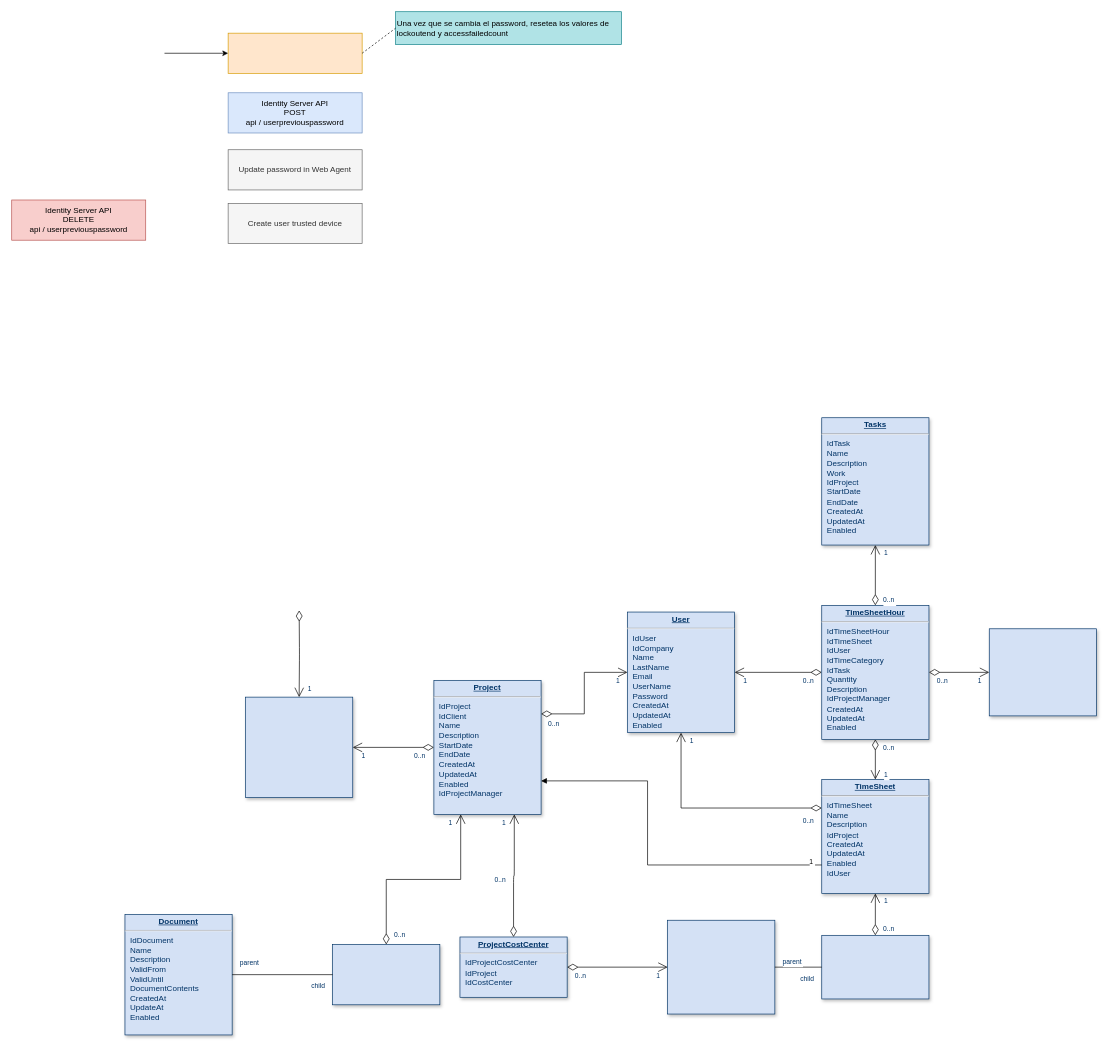
Some shapes in this 1112 by 1052 pixel diagram are drawn without their labels. The shapes that lost their labels are listed below. From the top down, each one's centre as x and y in pixels, then its label:
At (x=294, y=52): "Identity Server API PATCH api / user / { id } / password".
At (x=1043, y=673): "TimeCategory IdTimeCategory Name Description CreatedAt UpdatedAt Enabled".
At (x=299, y=748): "Client IdClient IdCompany Name Description CreatedAt UpdatedAt Enabled".
At (x=386, y=975): "ProjectDocument IdProjectDocument IdProject IdDocument".
At (x=721, y=968): "CostCenter IdCostCenter Name Description CreatedAt UpdatedAt Enabled".
At (x=875, y=968): "TimeSheetCostCenter IdTimeSheetCostCenter IdTimeSheet IdCostCenter".
